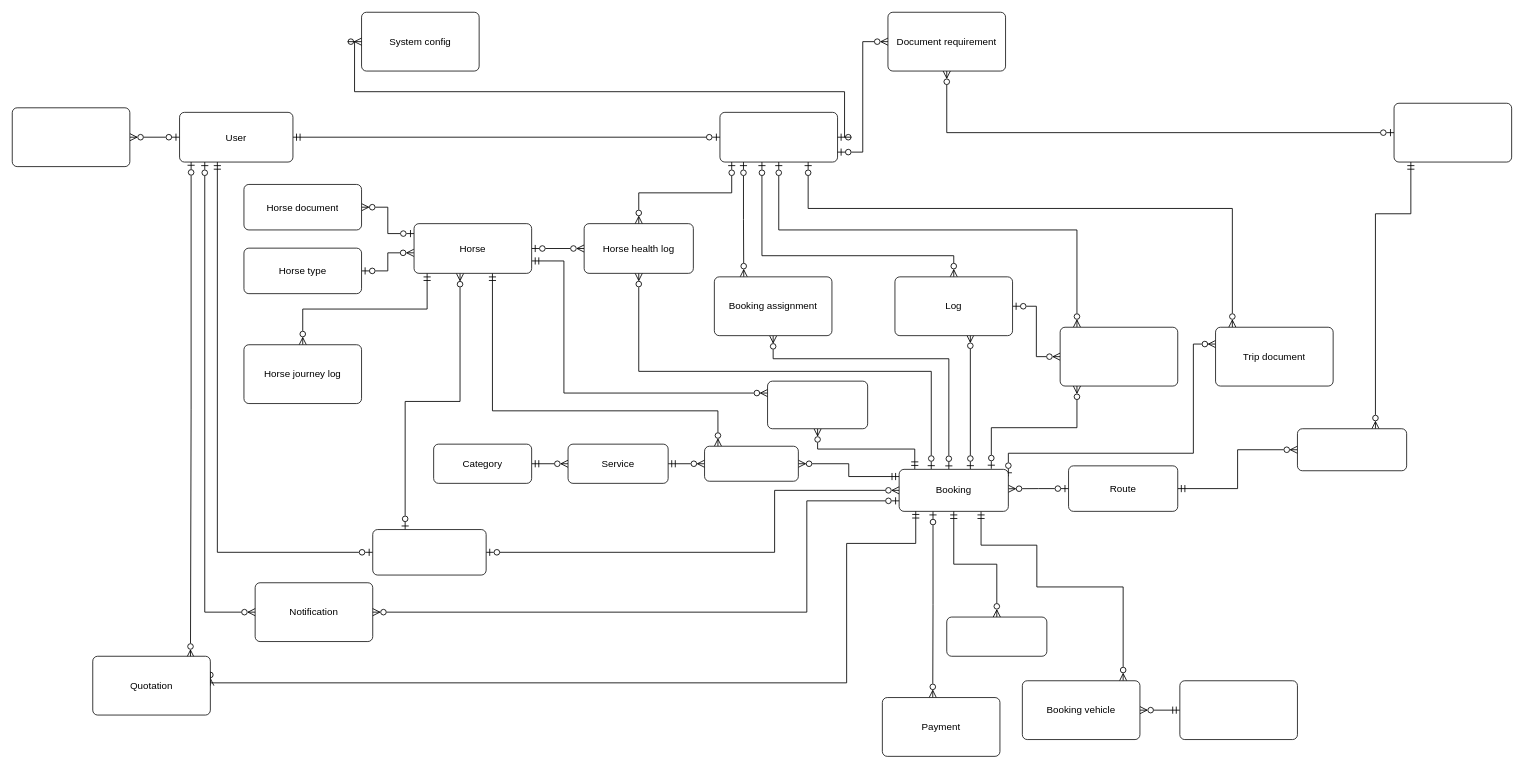
The diagram is 1525 pixels wide and 769 high, and some of its shapes have lost their labels. The shapes that lost their labels are listed below. From the top down, each one's centre as x and y in pixels, then its label:
At pixel 71 137: "System log".
At pixel 778 137: "Staff".
At pixel 1452 132: "Location".
At pixel 1118 356: "Incident".
At pixel 817 404: "Booking horse".
At pixel 751 463: "Service booking".
At pixel 1352 449: "Location route".
At pixel 429 552: "Customer".
At pixel 996 636: "Capture asset".
At pixel 1238 710: "Vehicle".
